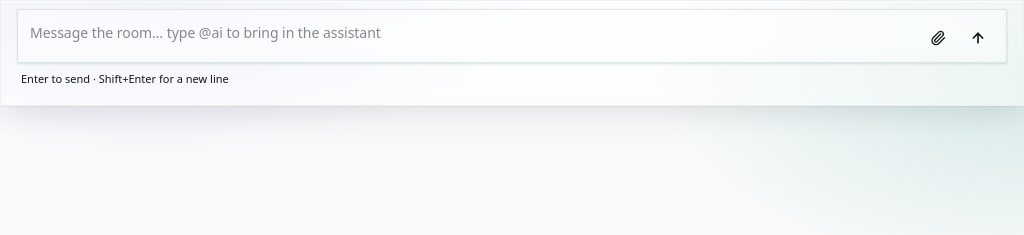
Test case: Composer — @mention combobox › closes the listbox on Escape and after applying a mention
Type "@" into the text box with placeholder "Message the room… type @ai to bring in the assistant".
click(472, 34); type("@")  # box left=30, top=18, right=914, bottom=49
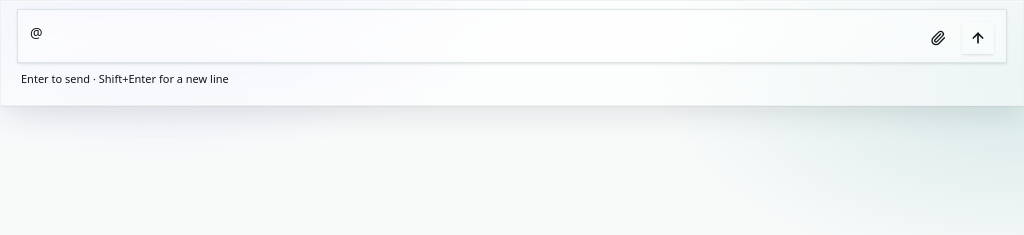
Now the dropdown named "Message" is expanded
Press Escape in the text box, box left=30, top=18, right=914, bottom=49
Replace the text in the text box with "@ai" at (472, 34), box left=30, top=18, right=914, bottom=49
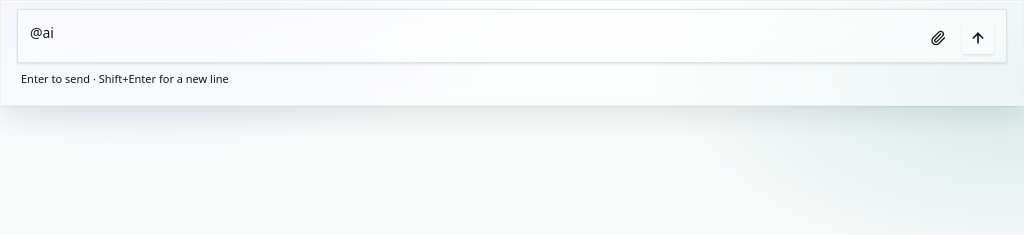
Press Enter in the text box, box left=30, top=18, right=914, bottom=49
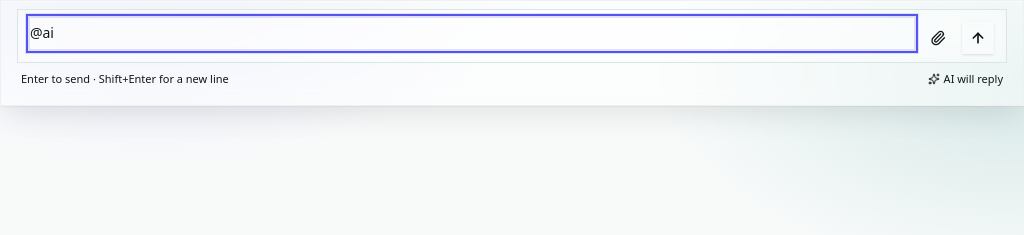
Now the dropdown named "Message" is collapsed, box left=30, top=18, right=914, bottom=54
